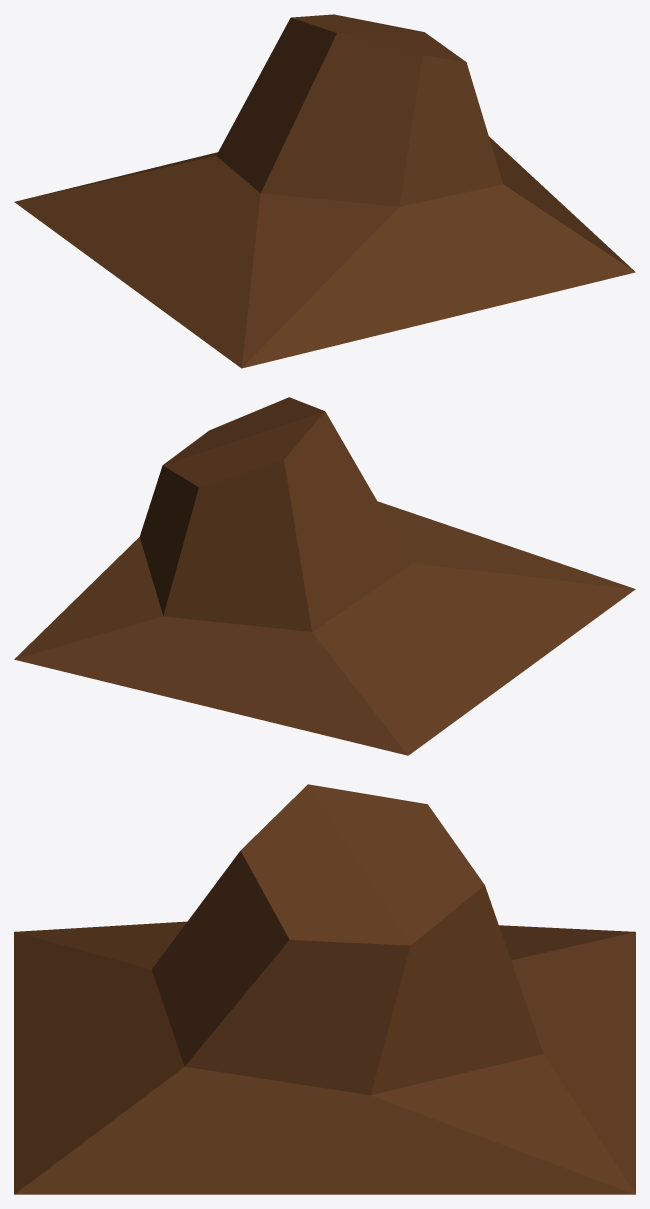
The model's file is ArbrePrairie_I.FBX.
3 renders of one model, top to bottom at view 1: azimuth 30°, elevation 25°; view 2: azimuth 150°, elevation 25°; view 3: azimuth 270°, elevation 25°, orthographic. The views are drawn at different scales.
Parts seen in each view (by area): view 1: ArbrePrairie_I; view 2: ArbrePrairie_I; view 3: ArbrePrairie_I.
Part boxes in pixels (x1,y1,x2,y2): ArbrePrairie_I: (14, 14, 635, 368); ArbrePrairie_I: (14, 397, 635, 755); ArbrePrairie_I: (14, 784, 635, 1194).
Bounding box in the file's own units: 1 × 0.5019 × 1.
